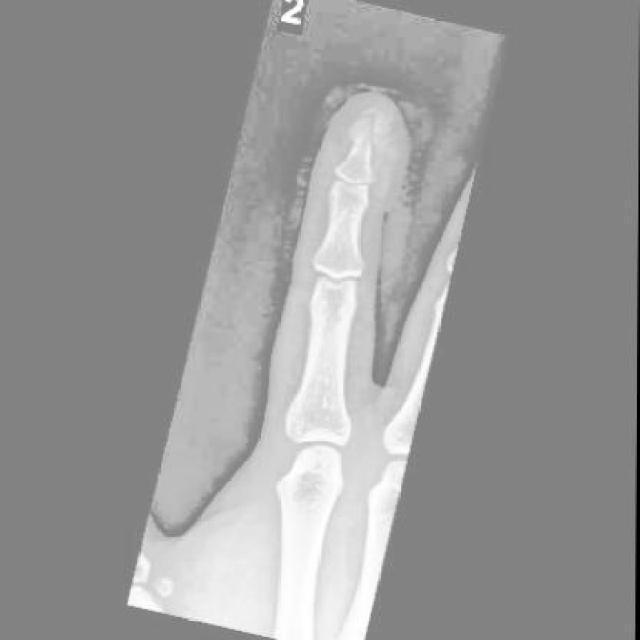Fracture: (343, 102, 391, 156)
